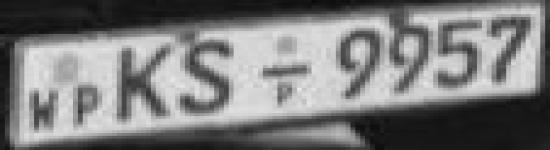-: (256, 59, 314, 81)
5: (428, 16, 486, 93)
7: (487, 12, 536, 91)
9: (326, 24, 387, 102), (387, 21, 432, 98)
K: (110, 42, 175, 125)
P: (72, 82, 103, 130)
S: (177, 35, 241, 118)
W: (25, 86, 62, 136)
